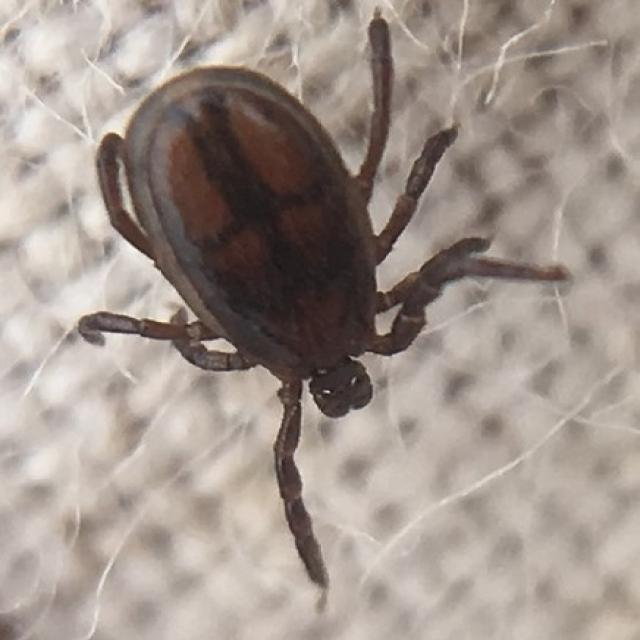Ixodes Ricinus-M: (75, 18, 572, 598)
